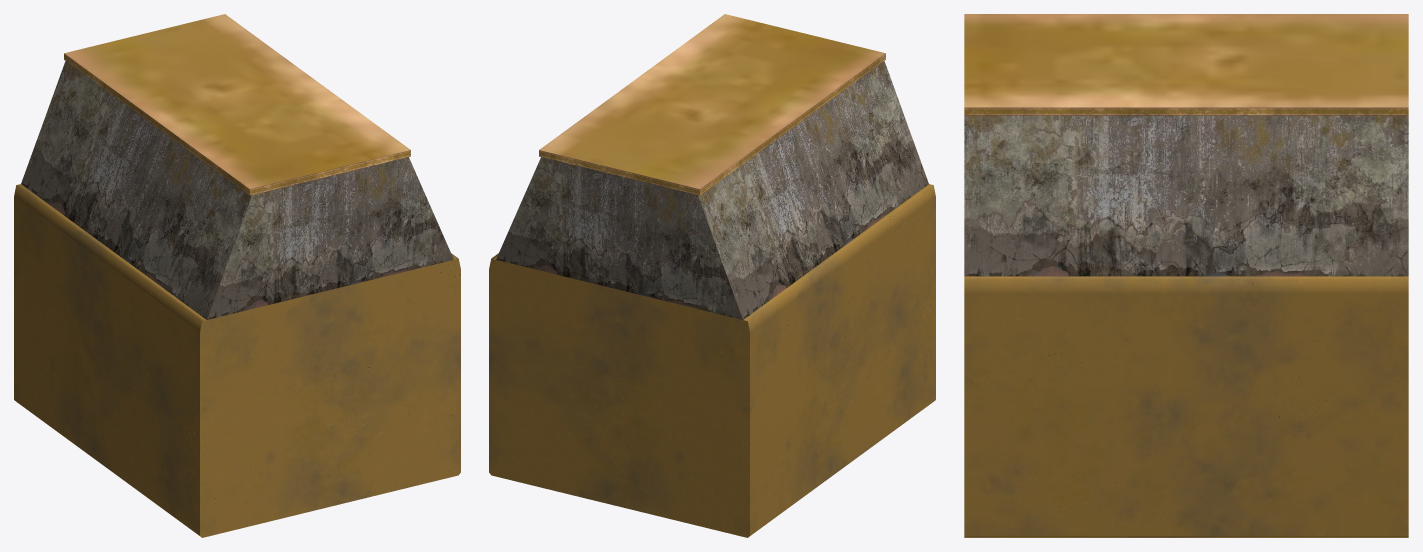
3 views of the same model, side by side, from view 1: azimuth 30°, elevation 25°; view 2: azimuth 150°, elevation 25°; view 3: azimuth 270°, elevation 25° (orthographic). The views are drawn at different scales.
Visible parts, largest first — view 1: SM_DK_2m_WallBase_03_LOD0; view 2: SM_DK_2m_WallBase_03_LOD0; view 3: SM_DK_2m_WallBase_03_LOD0.
Boxes of the visible parts, box(x1,y1,x2,y2) form: SM_DK_2m_WallBase_03_LOD0: box(14, 14, 460, 537); SM_DK_2m_WallBase_03_LOD0: box(489, 14, 935, 537); SM_DK_2m_WallBase_03_LOD0: box(964, 14, 1408, 537).
Bounding box in the file's own units: 3.24 × 4 × 4.
Materials: 2 (2 with a texture image).
